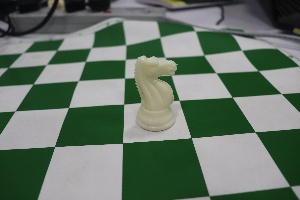white_horse: (122, 46, 192, 139)
